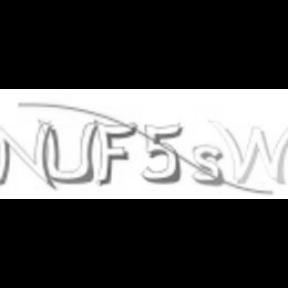5: (144, 122, 182, 184)
F: (96, 122, 138, 186)
N: (0, 122, 52, 190)
U: (39, 118, 99, 184)
W: (210, 116, 288, 184)
s: (192, 144, 222, 186)
